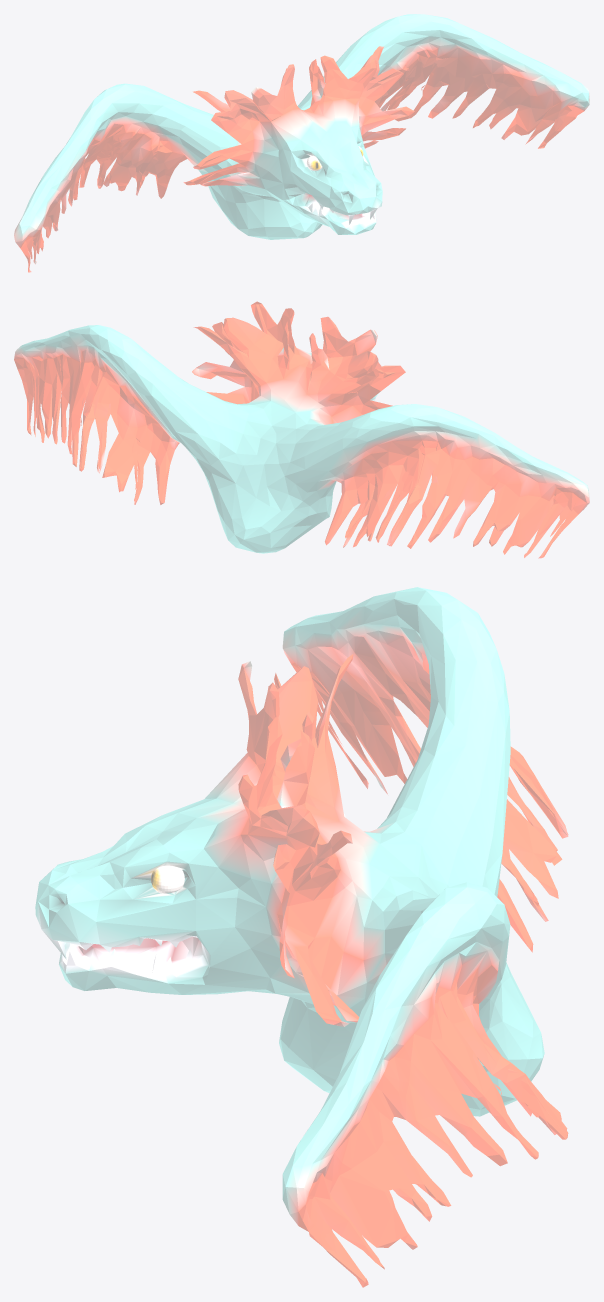
File: Kukulkan.glb
The picture shows the model from 3 angles, top to bottom: view 1: azimuth 30°, elevation 25°; view 2: azimuth 150°, elevation 25°; view 3: azimuth 270°, elevation 25°; orthographic projection. The views are drawn at different scales.
Parts seen in each view (by area): view 1: Esfera; view 2: Esfera; view 3: Esfera.
Boxes of the visible parts, left/top/right/bottom form: Esfera: left=14, top=14, right=589, bottom=272; Esfera: left=14, top=301, right=589, bottom=558; Esfera: left=35, top=587, right=568, bottom=1287.
Bounding box in the file's own units: 14.83 × 4.94 × 5.95.
